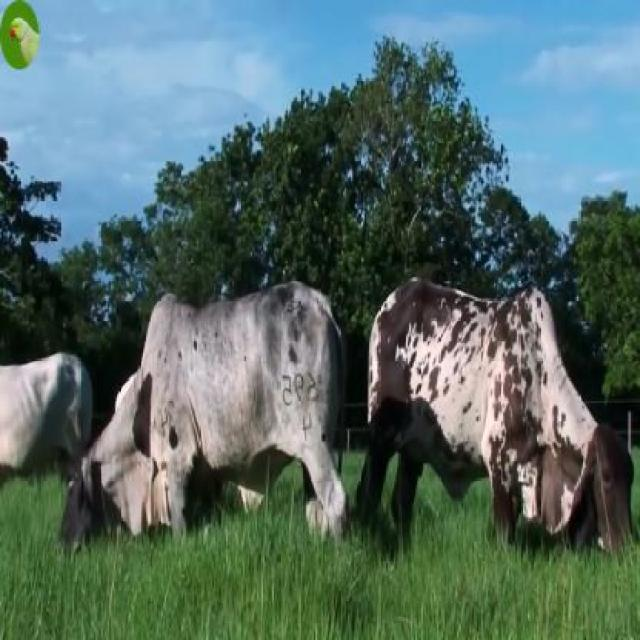Cow: (368, 277, 637, 580), (83, 286, 348, 572)
